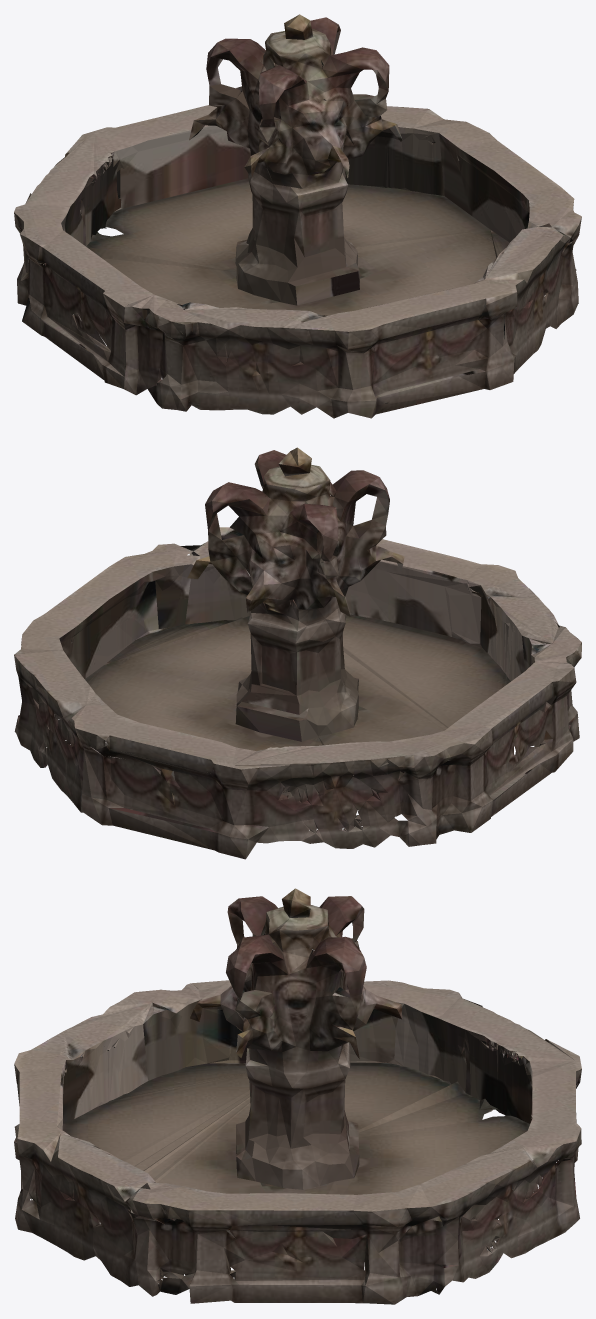
Rendered from park_dry_fountain_1117.glb.
3 renders of one model, top to bottom at view 1: azimuth 30°, elevation 25°; view 2: azimuth 150°, elevation 25°; view 3: azimuth 270°, elevation 25°, orthographic. The views are drawn at different scales.
Visible parts, largest first — view 1: world; view 2: world; view 3: world.
Boxes of the visible parts, x1,y1,x2,y2 form: world: [14, 14, 581, 418]; world: [14, 447, 581, 859]; world: [14, 888, 581, 1304].
Size of the model in its own units: 1.64 by 1 by 1.7.
1 material, 1 textured.
